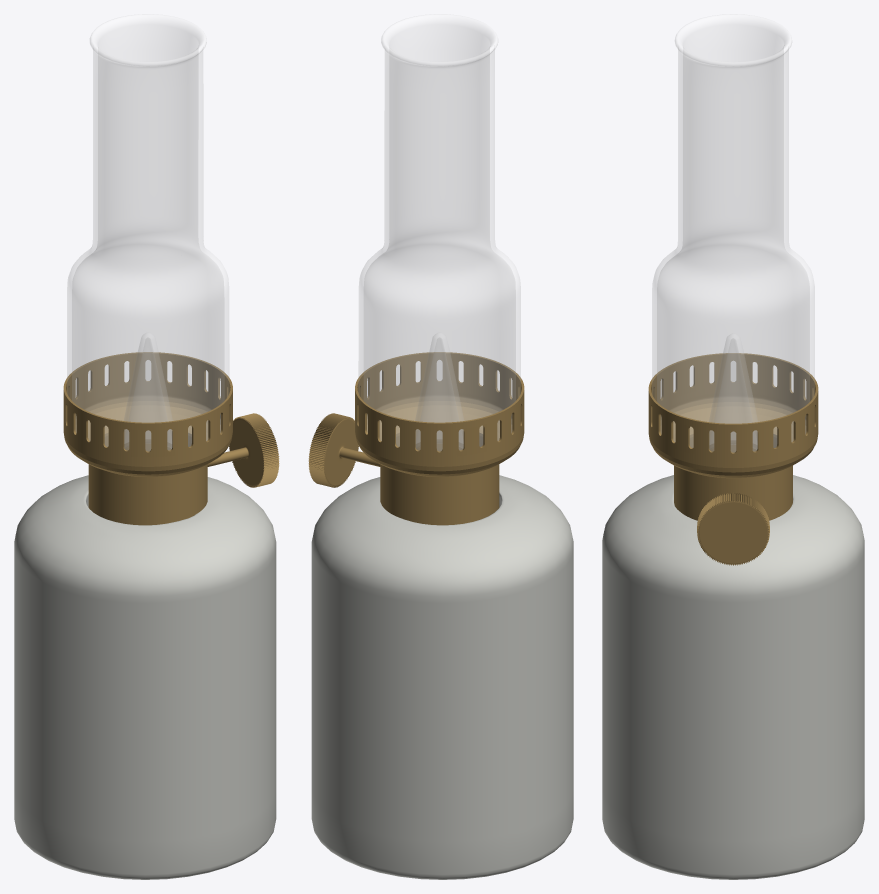
Rendered from knoltang_ozdoba_stoowa_led_00621636.glb.
3 renders of one model, left to right at view 1: azimuth 30°, elevation 25°; view 2: azimuth 150°, elevation 25°; view 3: azimuth 270°, elevation 25°, orthographic.
Visible parts, largest first — view 1: knoltang_ozdoba_stoowa_led_00621636; view 2: knoltang_ozdoba_stoowa_led_00621636; view 3: knoltang_ozdoba_stoowa_led_00621636.
Boxes of the visible parts, x1,y1,x2,y2 form: knoltang_ozdoba_stoowa_led_00621636: (14,14,279,879); knoltang_ozdoba_stoowa_led_00621636: (308,14,573,879); knoltang_ozdoba_stoowa_led_00621636: (602,14,864,879).
Bounding box in the file's own units: 0.0548 × 0.1803 × 0.0542.
Materials: 6 (1 with a texture image).
